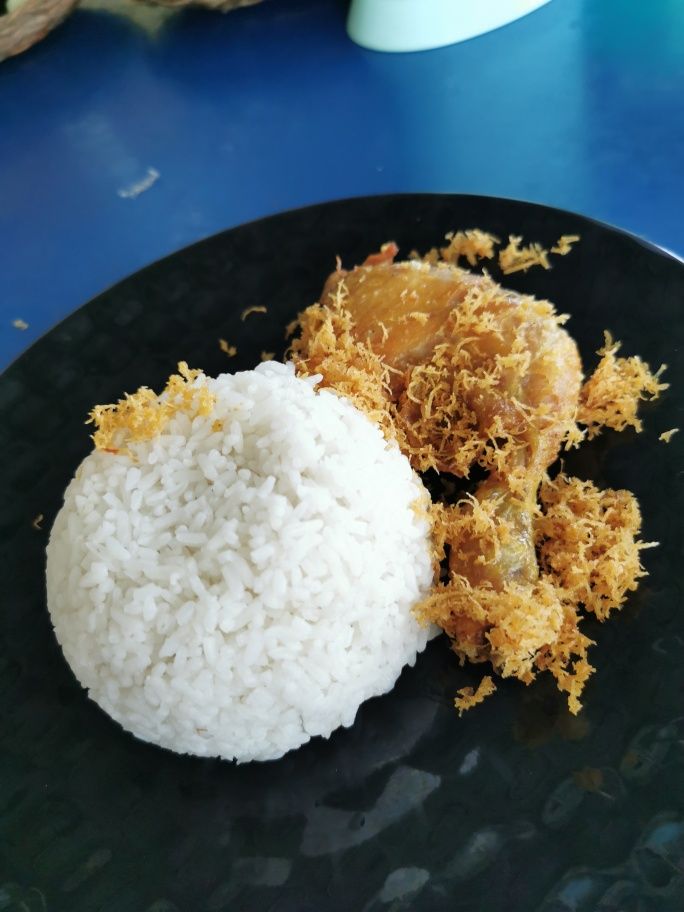ayam goreng: (289, 239, 652, 714)
nasi putih: (15, 341, 448, 798)
